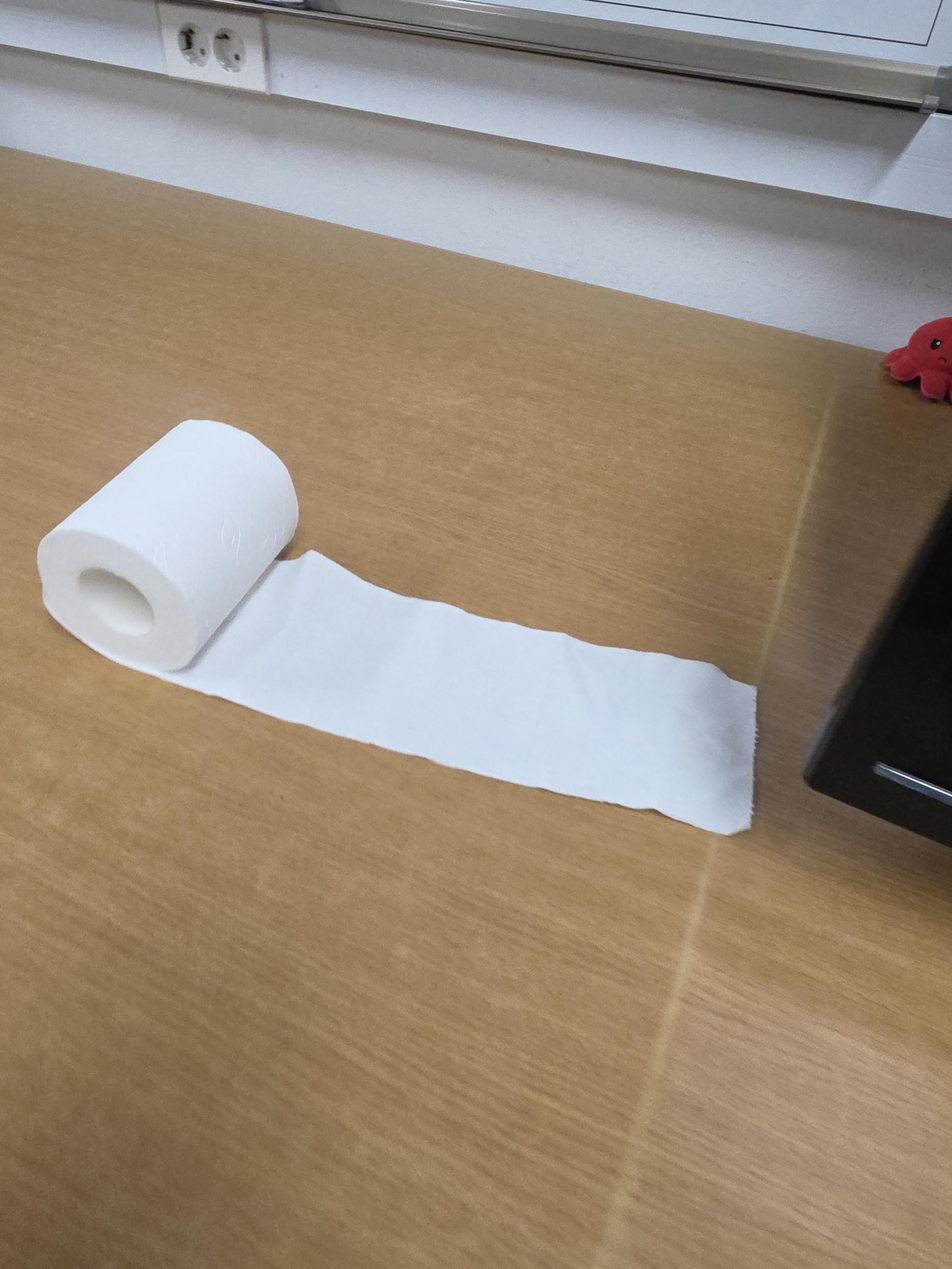tissue: (36, 418, 759, 837)
